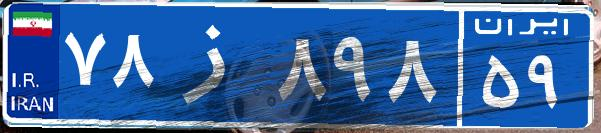5: (475, 38, 525, 113)
7: (57, 26, 110, 107)
8: (385, 28, 445, 110), (273, 28, 330, 110), (110, 28, 158, 105)
9: (330, 28, 385, 110), (525, 38, 570, 115)
ز: (158, 15, 273, 115)
